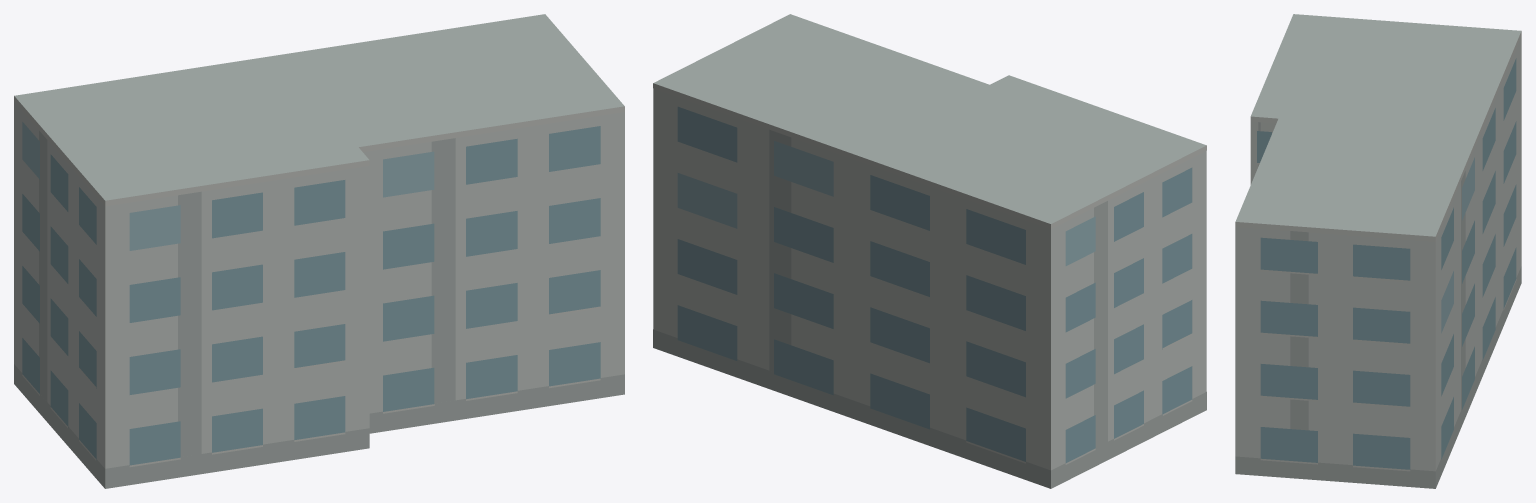
File: survey-upis-32827888.glb
3 renders of one model, left to right at view 1: azimuth 30°, elevation 25°; view 2: azimuth 150°, elevation 25°; view 3: azimuth 270°, elevation 25°, orthographic. The views are drawn at different scales.
Visible parts, largest first — view 1: survey-upis-32827888.tmp; view 2: survey-upis-32827888.tmp; view 3: survey-upis-32827888.tmp.
Part boxes in pixels (x1,y1,x2,y2): survey-upis-32827888.tmp: (14,14,624,488); survey-upis-32827888.tmp: (653,14,1206,488); survey-upis-32827888.tmp: (1235,14,1521,488).
Size of the model in its own units: 23.11 by 12.2 by 12.55.
